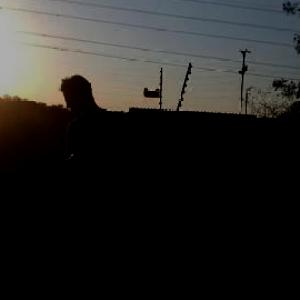follow: (52, 71, 139, 299)
